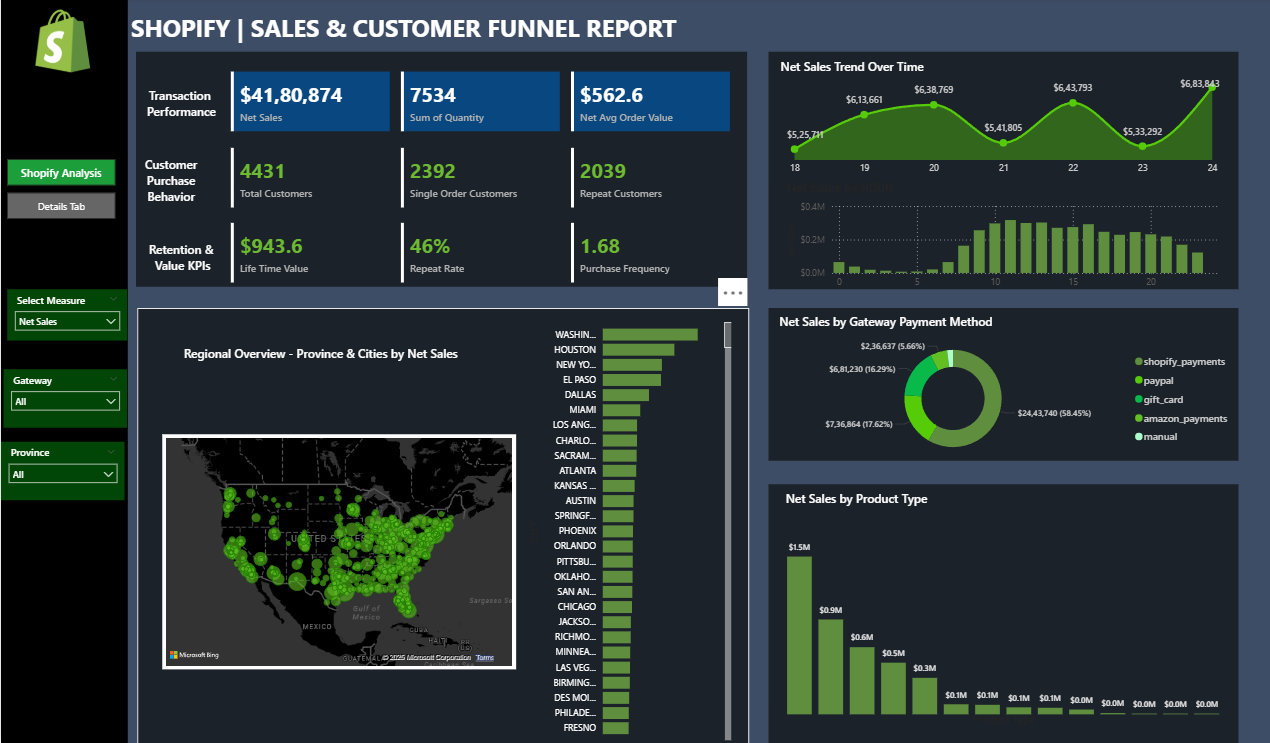

Layout of this report page (visuals, bound fields, positions):
{"tool":"powerbi","page":{"name":"Shopify Analysis","canvas":[1700,1000],"ordinal":0},"visuals":[{"type":"shape","box":[0,0,170,1000.5],"z":0},{"type":"textbox","box":[169.2,13.4,762.4,58.6],"z":1000},{"type":"shape","box":[181,72.1,819.4,315],"z":2000},{"type":"cardVisual","fields":{"Data":["shopify_sales.Net Sales","Sum(shopify_sales.Quantity)","shopify_sales.Net Avg Order Value"]},"box":[303.3,93.8,680.3,90.5],"z":3000},{"type":"card","fields":{"Values":["shopify_sales.Transaction Perf"]},"box":[181,97.2,122.3,87.1],"z":4000},{"type":"cardVisual","fields":{"Data":["shopify_sales.Total Customers","shopify_sales.Single Order Customers","shopify_sales.Repeat Customers"]},"box":[303.3,195.2,680.3,90.5],"z":5000},{"type":"card","fields":{"Values":["shopify_sales.Customer Purchase Behavior"]},"box":[169.2,197.7,122.3,87.1],"z":6000},{"type":"cardVisual","fields":{"Data":["shopify_sales.Life Time Value","shopify_sales.Repeat Rate","shopify_sales.Purchase Frequency"]},"box":[303.3,296.6,680.3,90.5],"z":7000},{"type":"card","fields":{"Values":["shopify_sales.Retention & Value KPIs"]},"box":[182.6,311.7,122.3,87.1],"z":8000},{"type":"shape","box":[182.6,415.6,819.4,584.8],"z":9000},{"type":"map","fields":{"Category":["shopify_sales.Location"],"Size":["shopify_sales.Total Quantity"]},"box":[216.2,584.8,474.2,315],"z":10000},{"type":"clusteredBarChart","fields":{"Category":["shopify_sales.CITY"],"Y":["shopify_sales.Net Sales"]},"box":[702.1,422.3,281.5,578.1],"z":11000},{"type":"slicer","fields":{"Values":["Select Measure.Select Measure"]},"box":[8.4,390.4,160.9,68.7],"z":12000},{"type":"card","fields":{"Values":["shopify_sales.Map Title"]},"box":[214.5,457.4,429,43.6],"z":13000},{"type":"shape","box":[1028.8,72.1,630,318.4],"z":14000},{"type":"areaChart","fields":{"Category":["shopify_sales.Invoice Date.Variation.Date Hierarchy.Day"],"Y":["shopify_sales.Net Sales"]},"box":[1048.9,97.2,589.8,149.1],"z":15000},{"type":"columnChart","fields":{"Y":["shopify_sales.Net Sales"],"Category":["shopify_sales.HOUR"]},"box":[1048.9,244.6,589.8,154.2],"z":16000},{"type":"card","fields":{"Values":["shopify_sales.Trend Title"]},"box":[1028.8,72.1,224.5,43.6],"z":17000},{"type":"shape","box":[1028.8,415.6,630,205],"z":18000},{"type":"donutChart","fields":{"Y":["shopify_sales.Net Sales"],"Category":["shopify_sales.Gateway"]},"box":[1028.8,449.1,630,175.9],"z":19000},{"type":"card","fields":{"Values":["shopify_sales.Gateway Title"]},"box":[1028.8,413.9,315,43.6],"z":20000},{"type":"shape","box":[1028.8,651.8,630,348.5],"z":21000},{"type":"columnChart","fields":{"Y":["shopify_sales.Net Sales"],"Category":["shopify_sales.Product Type"]},"box":[1048.9,708.8,589.8,271.4],"z":22000},{"type":"card","fields":{"Values":["shopify_sales.Product Title"]},"box":[1028.8,651.8,236.3,43.6],"z":23000},{"type":"image","box":[0,0,165.9,115.6],"z":24000},{"type":"slicer","fields":{"Values":["shopify_sales.Gateway"]},"box":[3.4,497.7,165.9,78.8],"z":25000},{"type":"slicer","fields":{"Values":["shopify_sales.Billing Address Province"]},"box":[0,594.8,165.9,78.8],"z":26000},{"type":"pageNavigator","box":[8.4,216.2,145.8,80.4],"z":27000}]}

Visuals, with their boxes on the page's 1700x1000 design canvas (x1, y1, x2, y2). These are canvas units, not pixel positions in the 1270x743 screenshot, which may show the page scaled, cropped or inside an application window:
shape: (0,0,170,1000)
textbox: (169,13,932,72)
shape: (181,72,1000,387)
cardVisual - shopify_sales.Net Sales x Sum(shopify_sales.Quantity): (303,94,984,184)
card - shopify_sales.Transaction Perf: (181,97,303,184)
cardVisual - shopify_sales.Total Customers x shopify_sales.Single Order Customers: (303,195,984,286)
card - shopify_sales.Customer Purchase Behavior: (169,198,292,285)
cardVisual - shopify_sales.Life Time Value x shopify_sales.Repeat Rate: (303,297,984,387)
card - shopify_sales.Retention & Value KPIs: (183,312,305,399)
shape: (183,416,1002,1000)
map - shopify_sales.Location x shopify_sales.Total Quantity: (216,585,690,900)
clusteredBarChart - shopify_sales.CITY x shopify_sales.Net Sales: (702,422,984,1000)
slicer - Select Measure.Select Measure: (8,390,169,459)
card - shopify_sales.Map Title: (214,457,644,501)
shape: (1029,72,1659,390)
areaChart - shopify_sales.Invoice Date.Variation.Date Hierarchy.Day x shopify_sales.Net Sales: (1049,97,1639,246)
columnChart - shopify_sales.Net Sales x shopify_sales.HOUR: (1049,245,1639,399)
card - shopify_sales.Trend Title: (1029,72,1253,116)
shape: (1029,416,1659,621)
donutChart - shopify_sales.Net Sales x shopify_sales.Gateway: (1029,449,1659,625)
card - shopify_sales.Gateway Title: (1029,414,1344,458)
shape: (1029,652,1659,1000)
columnChart - shopify_sales.Net Sales x shopify_sales.Product Type: (1049,709,1639,980)
card - shopify_sales.Product Title: (1029,652,1265,695)
image: (0,0,166,116)
slicer - shopify_sales.Gateway: (3,498,169,576)
slicer - shopify_sales.Billing Address Province: (0,595,166,674)
pageNavigator: (8,216,154,297)
